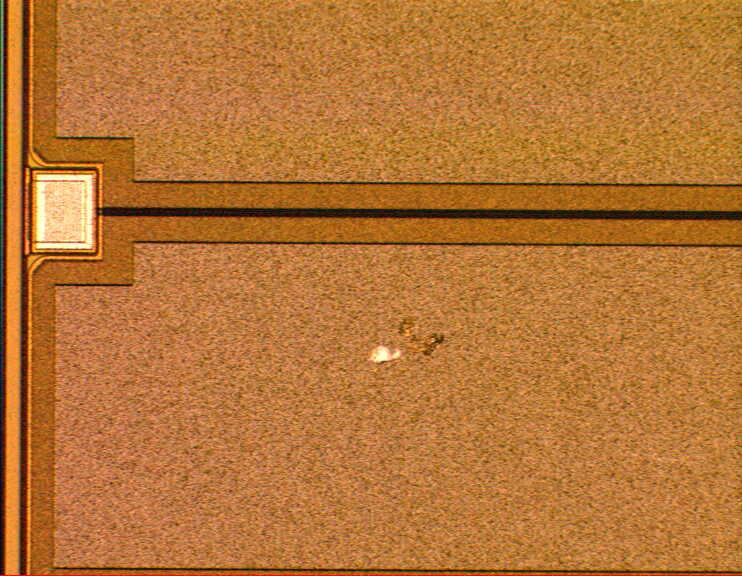SCRATCH: (355, 300, 461, 383)
